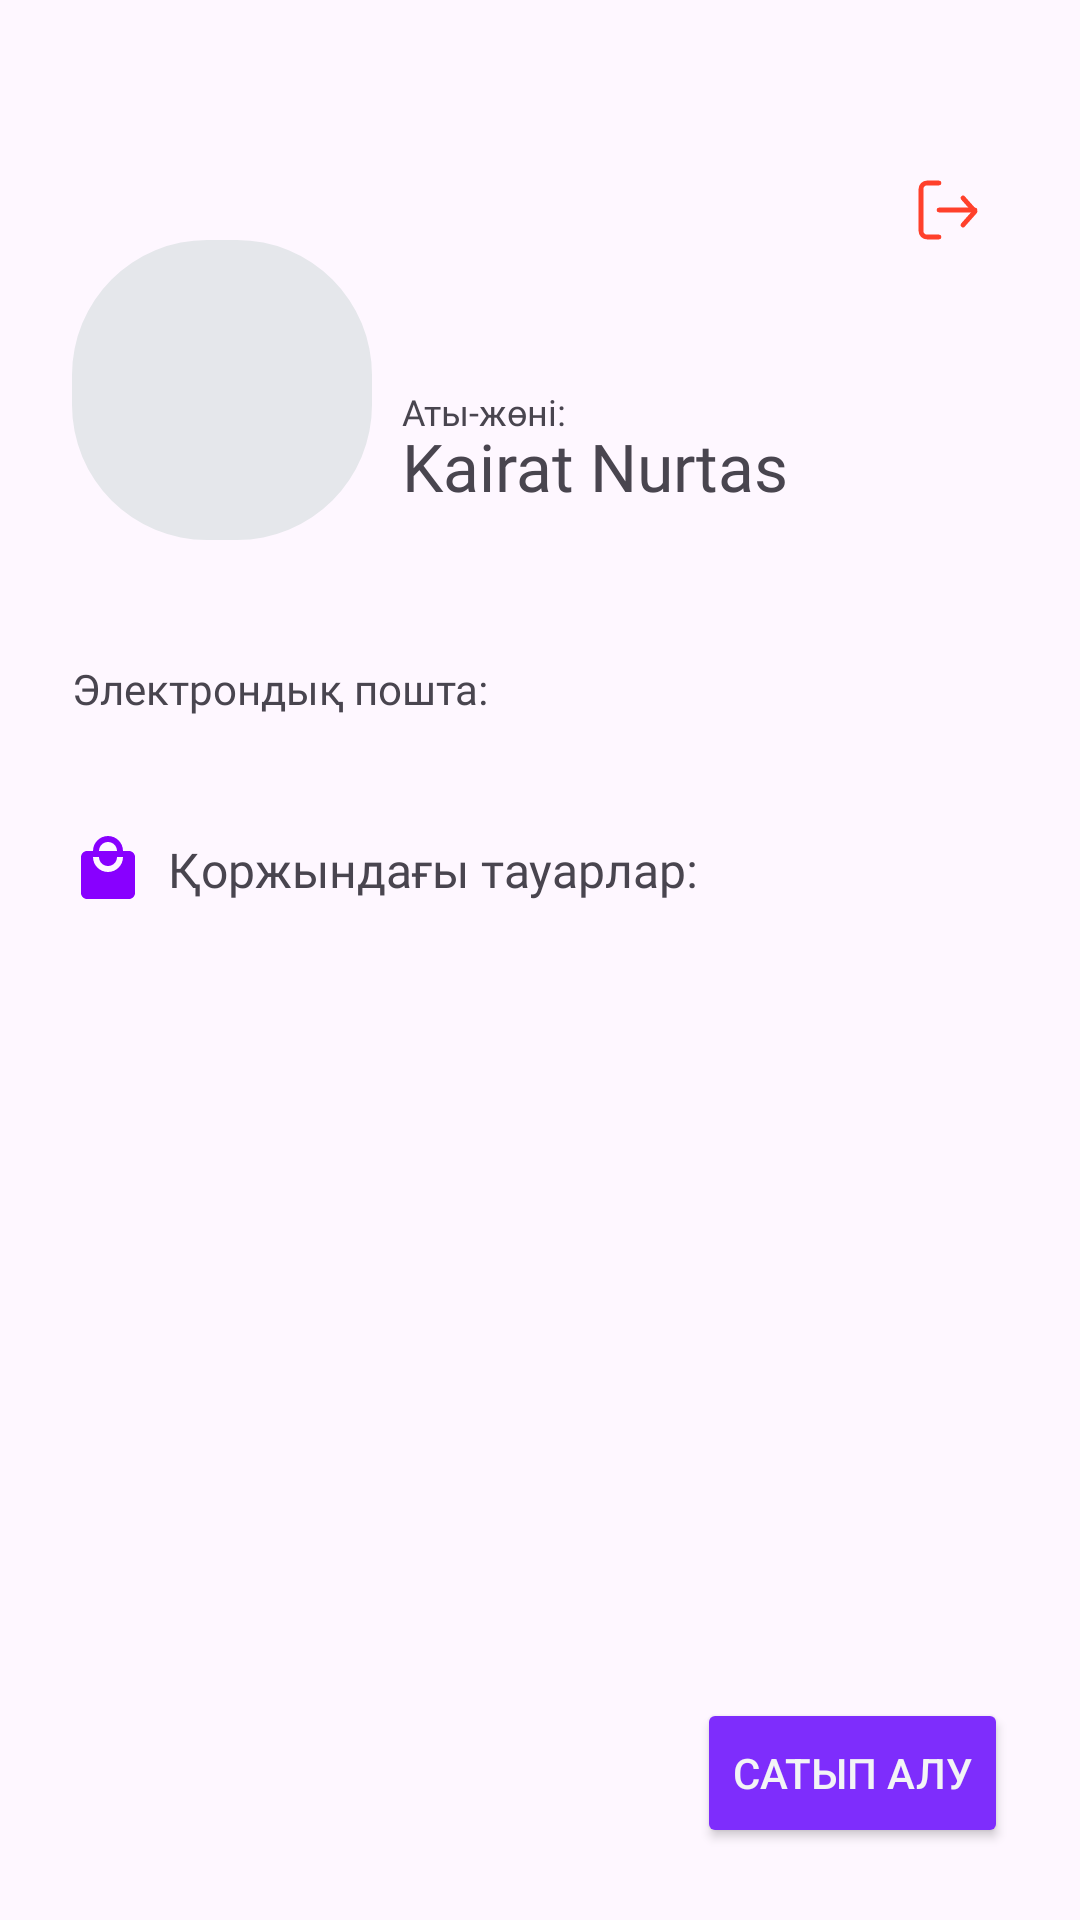

Icons on this 1080x1920 Android screen, each with the point to tap as (x,y):
exit: (948,210)
